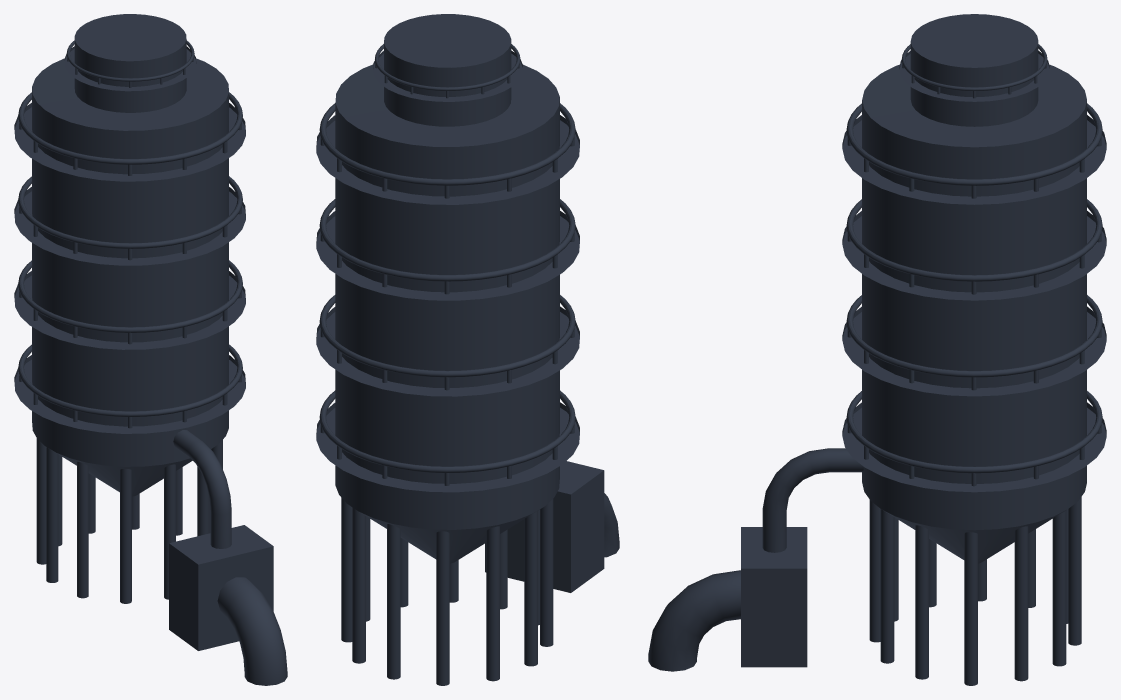
File: ust.gltf
3 views of the same model, side by side, from view 1: azimuth 30°, elevation 25°; view 2: azimuth 150°, elevation 25°; view 3: azimuth 270°, elevation 25° (orthographic). The views are drawn at different scales.
Parts seen in each view (by area): view 1: Cylinder.124; view 2: Cylinder.124; view 3: Cylinder.124.
Boxes of the visible parts, x1,y1,x2,y2 form: Cylinder.124: (14, 14, 287, 685); Cylinder.124: (316, 14, 619, 685); Cylinder.124: (648, 14, 1106, 685).
Size of the model in its own units: 31.47 by 81.27 by 54.58.
